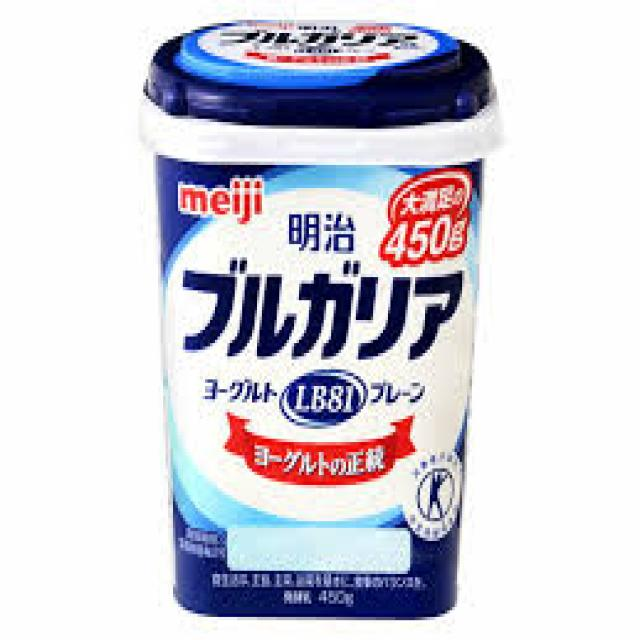plastic: (139, 13, 500, 617)
